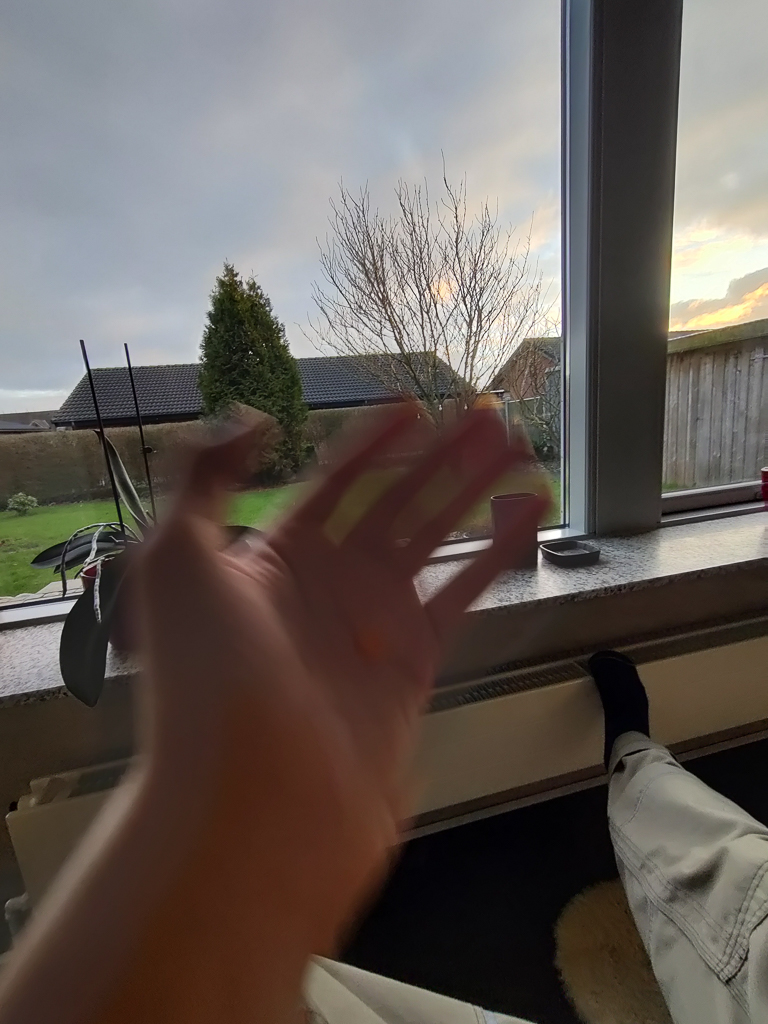Humanoid: (0, 365, 768, 1024)
